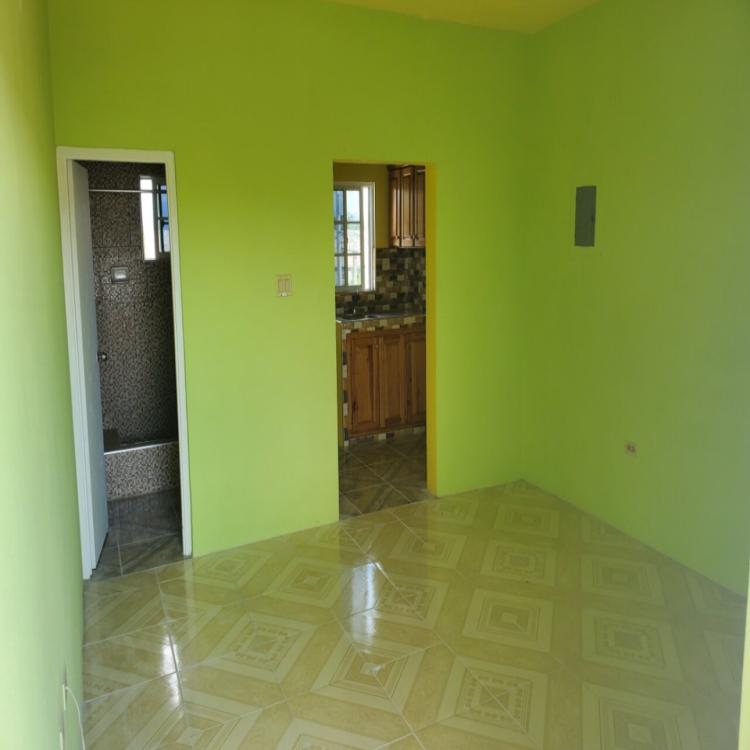OpenDoor: (63, 152, 188, 574), (329, 154, 446, 512)
